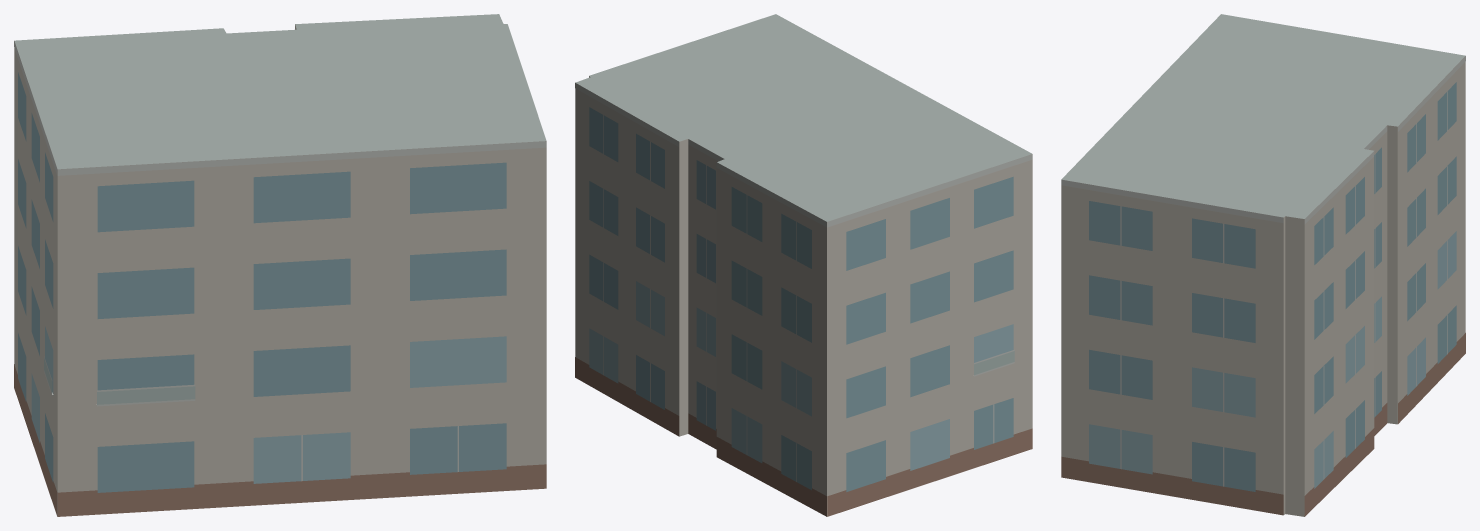
Rendered from survey-upis-32622652.glb.
The picture shows the model from 3 angles, left to right: view 1: azimuth 30°, elevation 25°; view 2: azimuth 150°, elevation 25°; view 3: azimuth 270°, elevation 25°; orthographic projection. The views are drawn at different scales.
Visible parts, largest first — view 1: survey-upis-32622652.tmp; view 2: survey-upis-32622652.tmp; view 3: survey-upis-32622652.tmp.
Boxes of the visible parts, x1=… form: survey-upis-32622652.tmp: x1=14, y1=14, x2=546, y2=516; survey-upis-32622652.tmp: x1=575, y1=14, x2=1032, y2=516; survey-upis-32622652.tmp: x1=1061, y1=14, x2=1465, y2=516.
Size of the model in its own units: 18.91 by 12.8 by 15.77.
